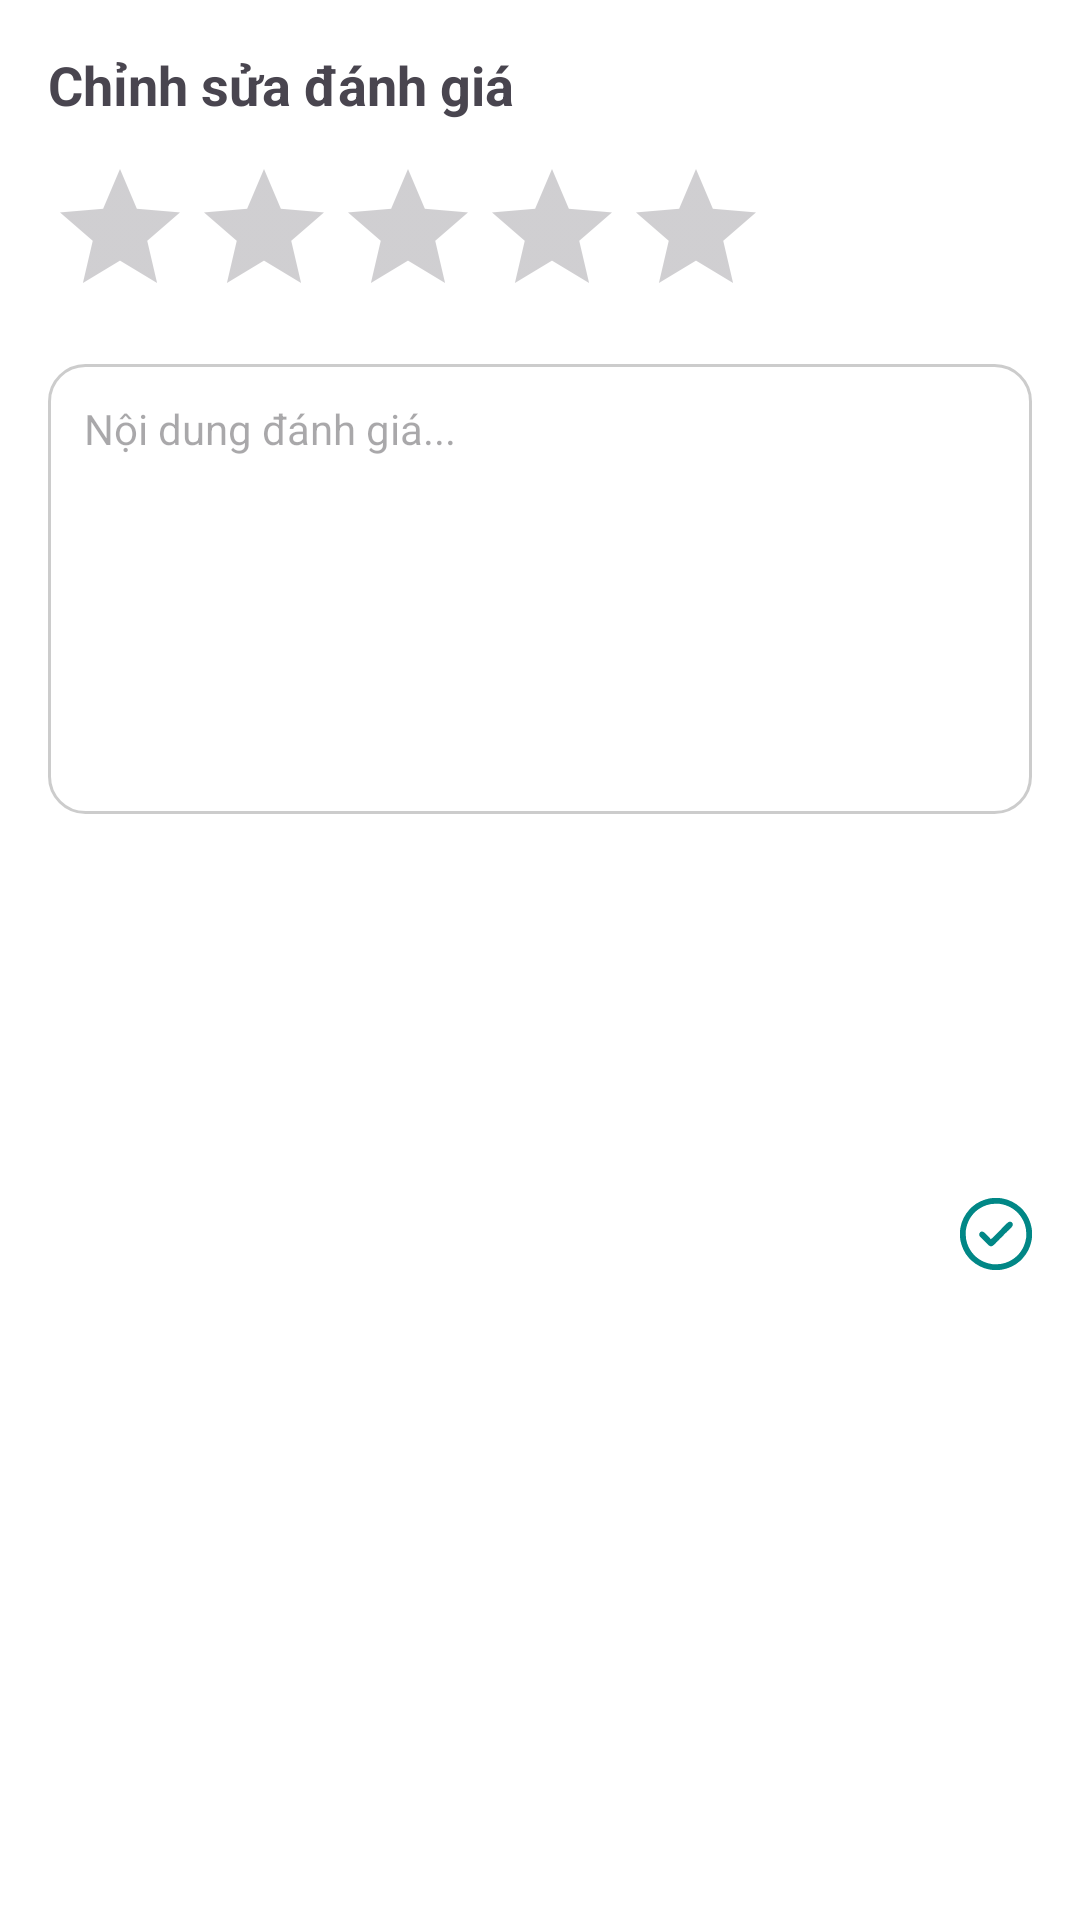

Icons on this 1080x1920 Android screen, each with the point to tap as (x,y):
Lưu: (996,1234)
